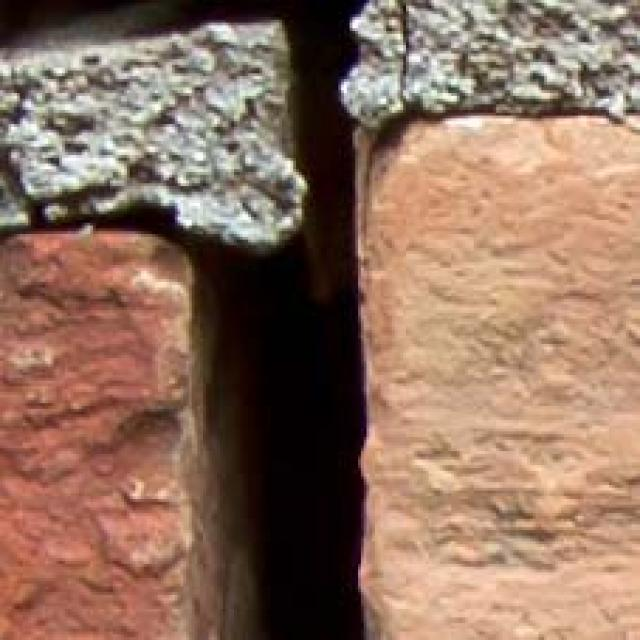Crack: (95, 4, 441, 640)
